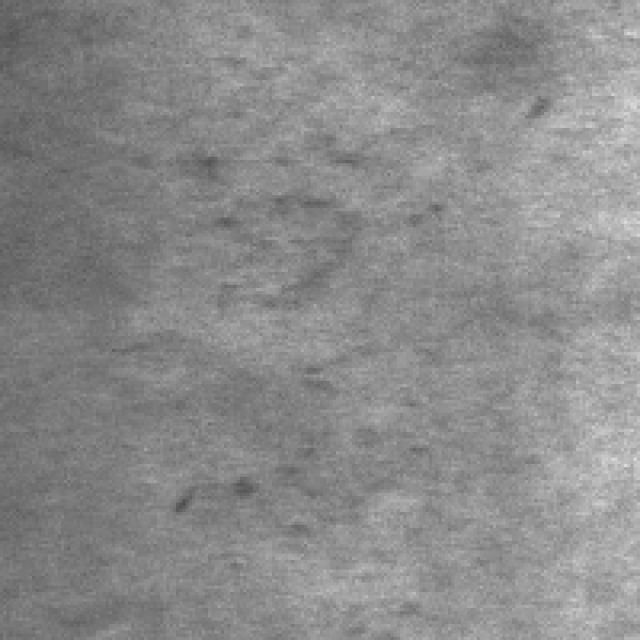rolled-in_scale: (198, 119, 442, 314), (227, 352, 426, 538)
